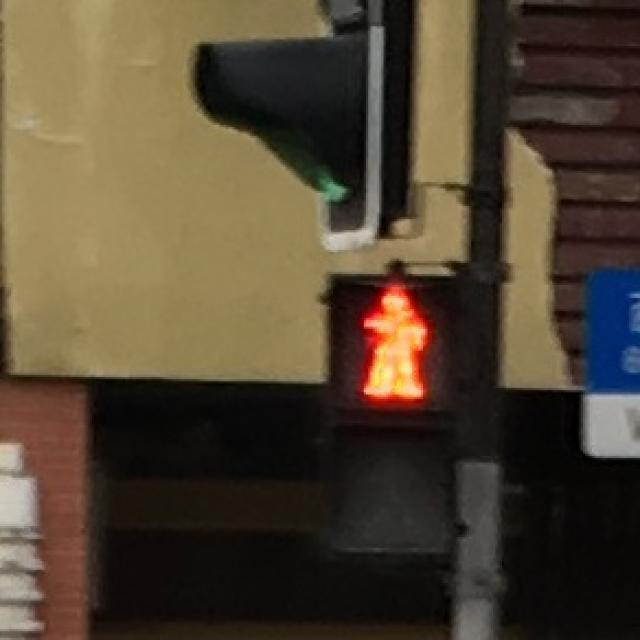red-crossing: (344, 279, 449, 411)
